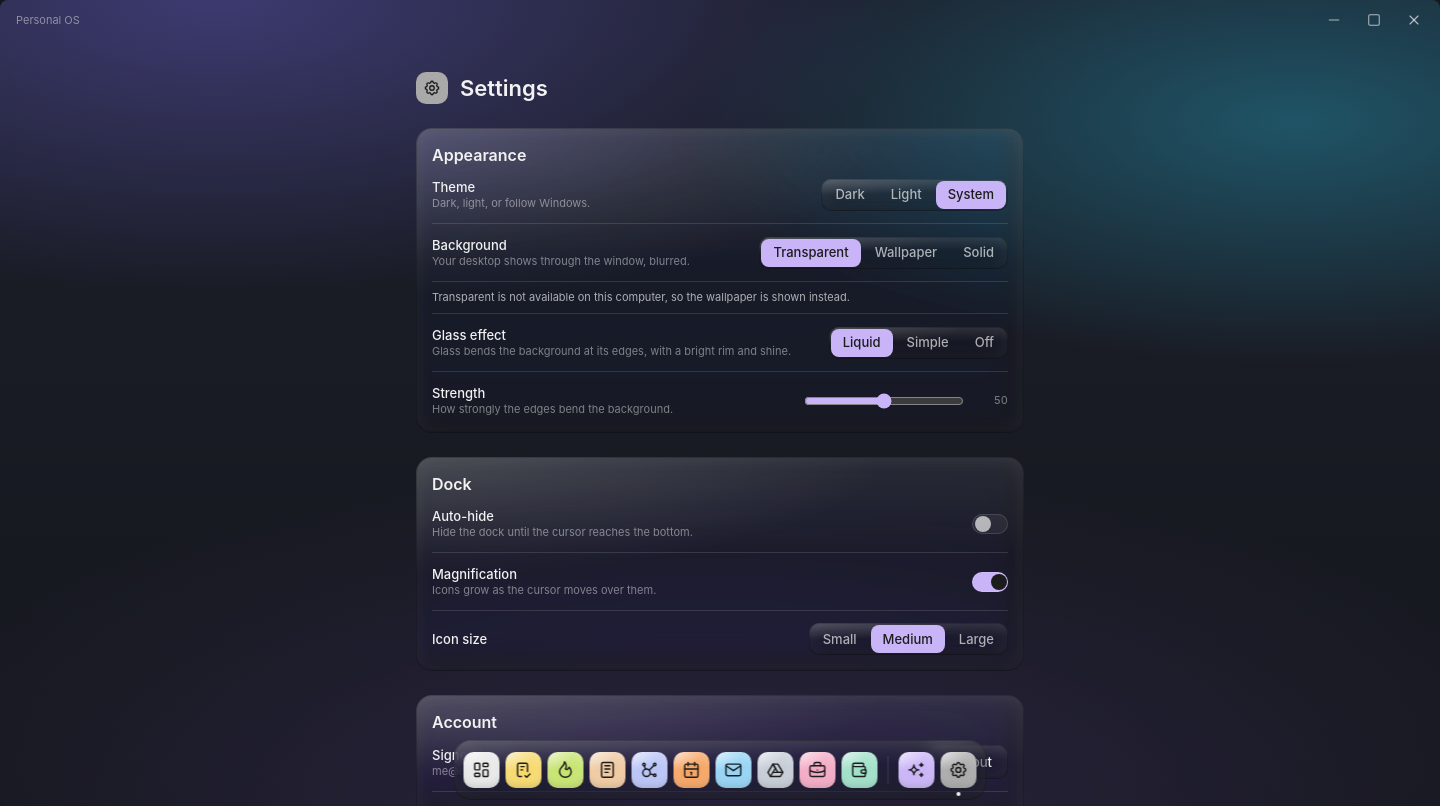
Appearance → Background › does not show that note when the effect works or another mode is chosen
Expected: the text "Transparent is not available on this computer, so the wallpaper is shown instead." is shown, 432,290 -> 850,304
Click the radio button labelled "Solid". click: [979, 252]
box: 951,238 -> 1006,266
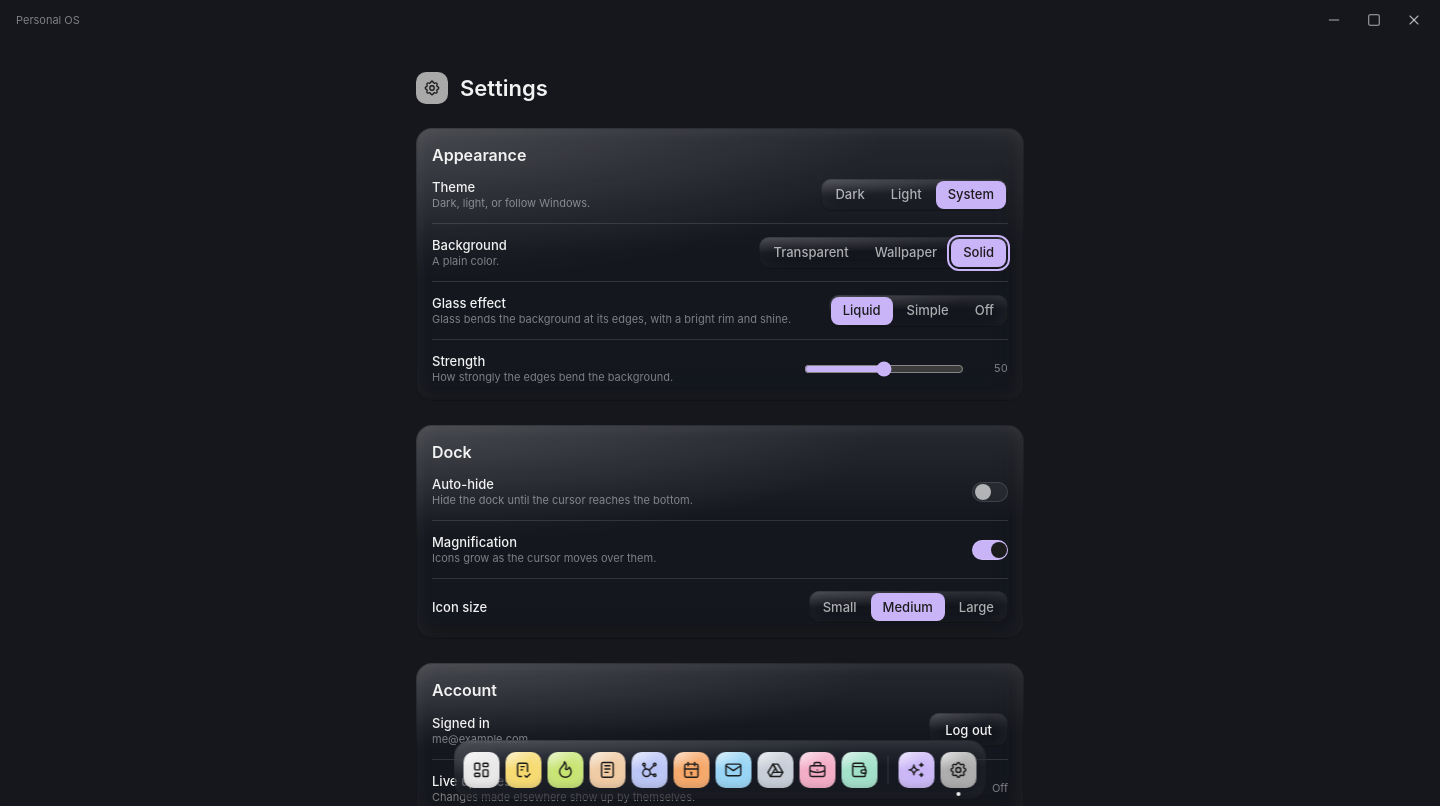
Expected: the text "Transparent is not available on this computer, so the wallpaper is shown instead." is gone
